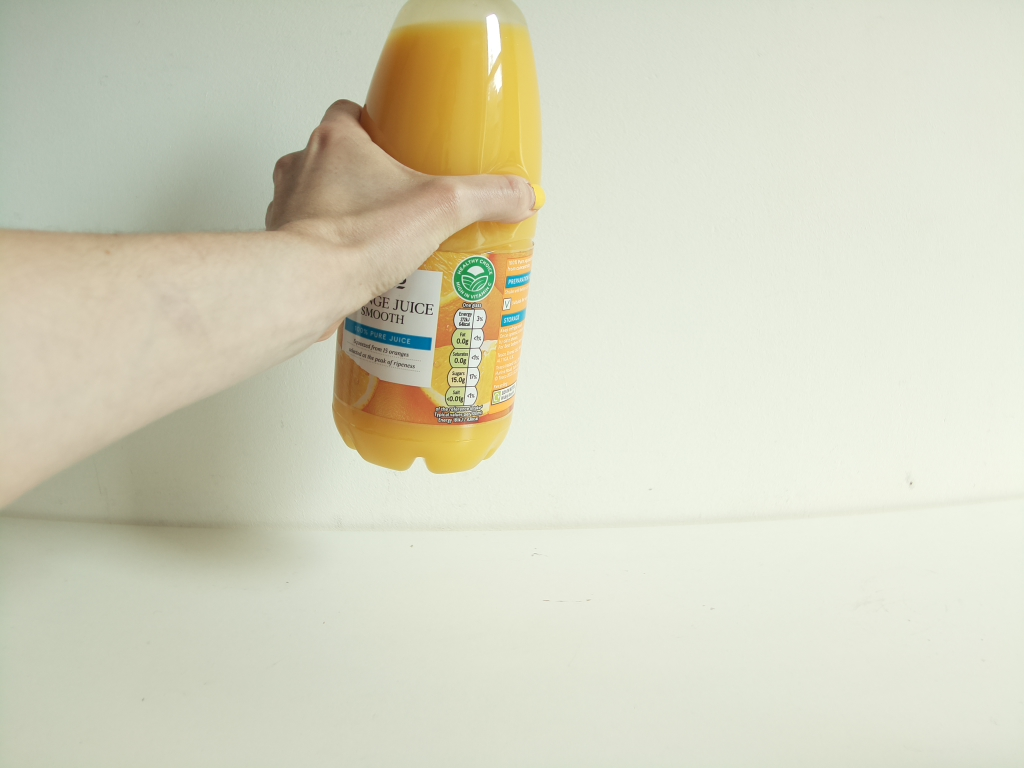juice: (329, 1, 547, 475)
